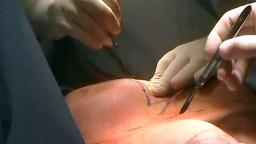scalpel: (179, 6, 251, 114)
